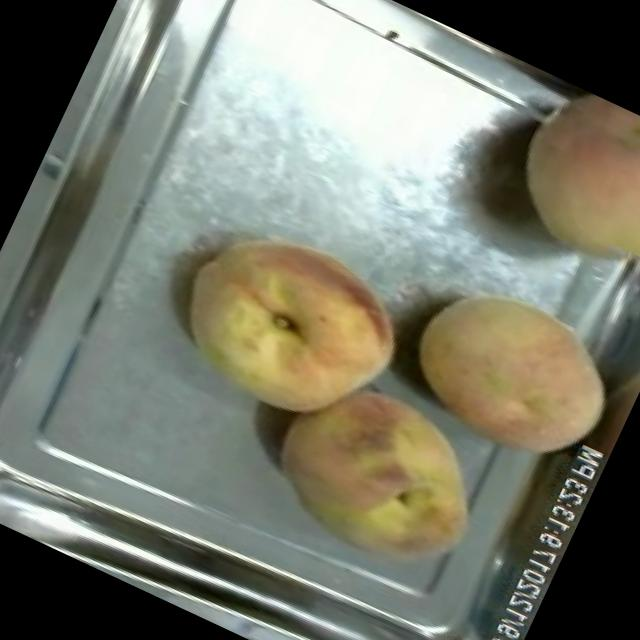Fruit: (237, 346, 526, 614), (147, 195, 426, 454), (376, 250, 640, 497), (475, 71, 640, 315)
